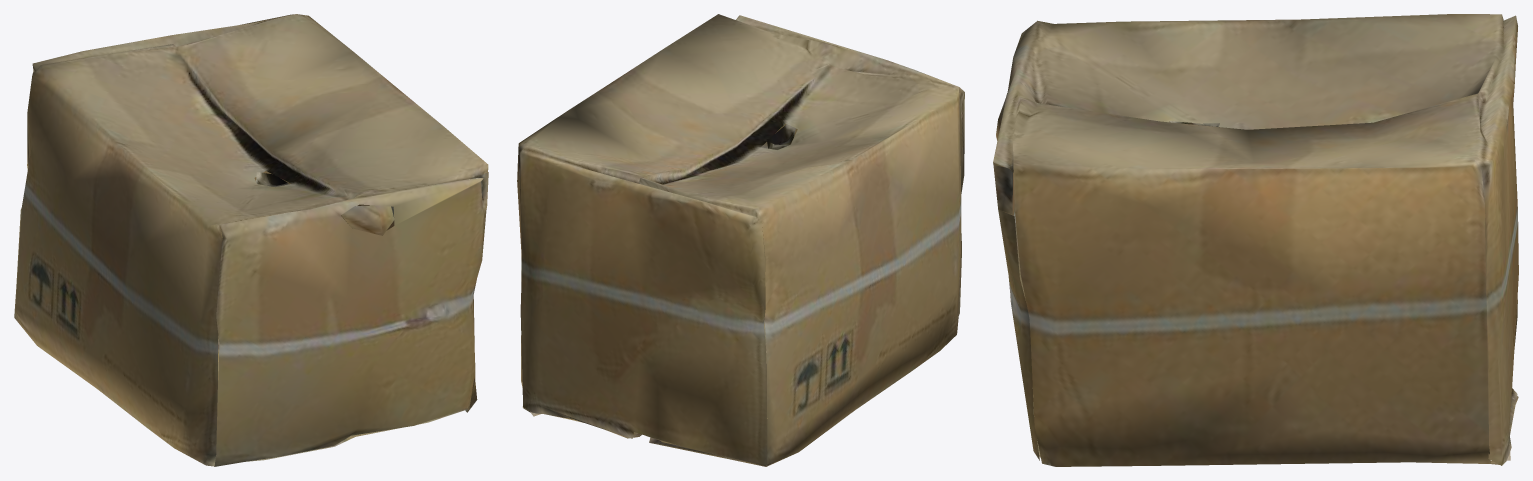
The model's file is carton.glb.
3 views of the same model, side by side, from view 1: azimuth 30°, elevation 25°; view 2: azimuth 150°, elevation 25°; view 3: azimuth 270°, elevation 25° (orthographic). The views are drawn at different scales.
Parts seen in each view (by area): view 1: Carton; view 2: Carton; view 3: Carton.
Part boxes in pixels (<box>): Carton: <box>14,14,488,466</box>; Carton: <box>517,14,964,466</box>; Carton: <box>993,14,1518,466</box>.
Size of the model in its own units: 0.3868 by 0.34 by 0.5125.
1 material, 1 textured.
